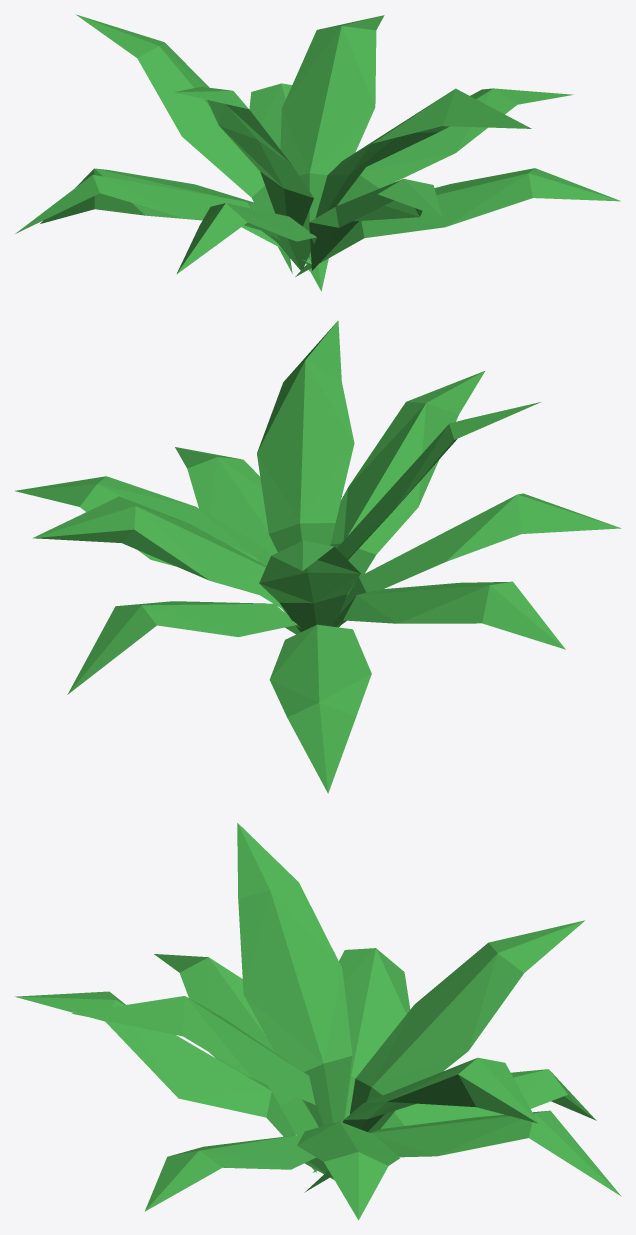
Rendered from hierba1.glb.
3 renders of one model, top to bottom at view 1: azimuth 30°, elevation 25°; view 2: azimuth 150°, elevation 25°; view 3: azimuth 270°, elevation 25°, orthographic. The views are drawn at different scales.
Parts seen in each view (by area): view 1: hierba1; view 2: hierba1; view 3: hierba1.
Part boxes in pixels (x1,y1,x2,y2): hierba1: (15, 14, 620, 291); hierba1: (15, 320, 621, 793); hierba1: (15, 823, 621, 1220).
Bounding box in the file's own units: 8.64 × 4.01 × 7.9.
